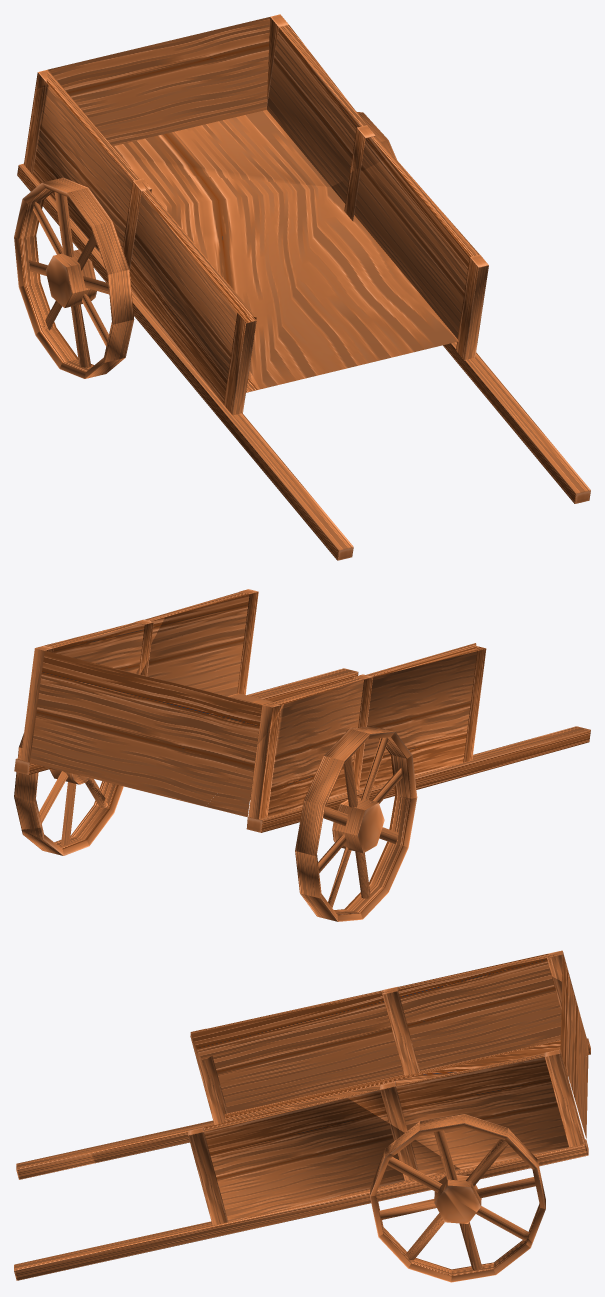
Rendered from Loader.fbx.
3 renders of one model, top to bottom at view 1: azimuth 30°, elevation 25°; view 2: azimuth 150°, elevation 25°; view 3: azimuth 270°, elevation 25°, orthographic. The views are drawn at different scales.
Visible parts, largest first — view 1: MESH_Wagon_MAT_TrimSheet_Wood_0_001_cell.001, MESH_Wagon_MAT_TrimSheet_Wood_0_001_cell.002, MESH_Wagon_MAT_TrimSheet_Wood_0_001_cell; view 2: MESH_Wagon_MAT_TrimSheet_Wood_0_001_cell.002, MESH_Wagon_MAT_TrimSheet_Wood_0_001_cell, MESH_Wagon_MAT_TrimSheet_Wood_0_001_cell.001; view 3: MESH_Wagon_MAT_TrimSheet_Wood_0_001_cell.002, MESH_Wagon_MAT_TrimSheet_Wood_0_001_cell.001, MESH_Wagon_MAT_TrimSheet_Wood_0_001_cell.
Part boxes in pixels (box(x1,y1,x2,y2)): MESH_Wagon_MAT_TrimSheet_Wood_0_001_cell.001: box(140, 158, 590, 559); MESH_Wagon_MAT_TrimSheet_Wood_0_001_cell.002: box(14, 86, 341, 560); MESH_Wagon_MAT_TrimSheet_Wood_0_001_cell: box(35, 14, 396, 186); MESH_Wagon_MAT_TrimSheet_Wood_0_001_cell.002: box(206, 643, 590, 921); MESH_Wagon_MAT_TrimSheet_Wood_0_001_cell: box(14, 614, 283, 829); MESH_Wagon_MAT_TrimSheet_Wood_0_001_cell.001: box(21, 589, 587, 855); MESH_Wagon_MAT_TrimSheet_Wood_0_001_cell.002: box(16, 955, 590, 1164); MESH_Wagon_MAT_TrimSheet_Wood_0_001_cell.001: box(14, 1095, 532, 1282); MESH_Wagon_MAT_TrimSheet_Wood_0_001_cell: box(347, 950, 588, 1242).
Size of the model in its own units: 98.92 by 78.11 by 180.
Materials: 2 (1 with a texture image).
